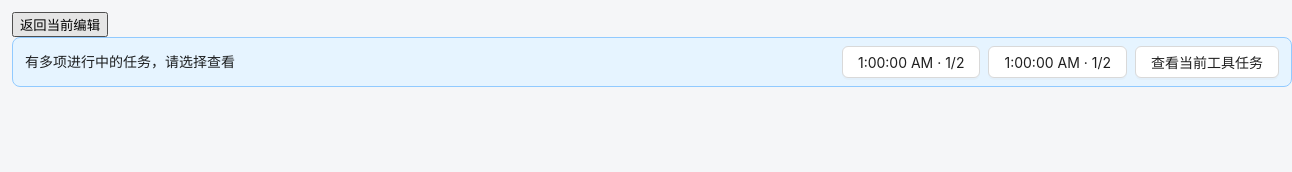
Test: 工作站自动发现及最小输入恢复 › 多项进行中由用户选择，排除同名画布任务
The width and height of the screenshot is (1292, 172).
expect the text "有多项进行中的任务，请选择查看" is shown: met, box [25, 53, 235, 70]
What coordinates should you click on to do the following:
click the 1st button "1:00:00 AM · 1/2"
I would click on:
 (911, 62)
Its box is [842, 46, 980, 78].
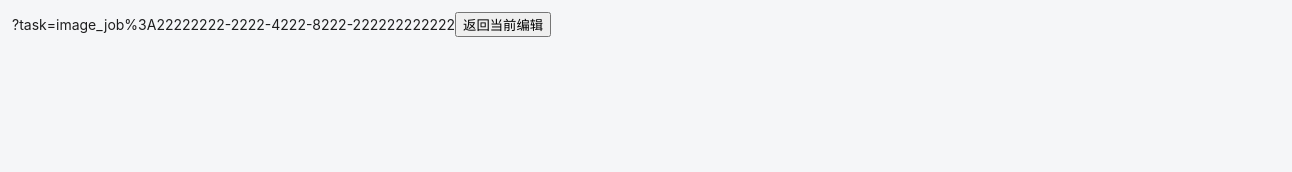
expect the text with test id "location" shows "task=": met, box [12, 16, 455, 33]
